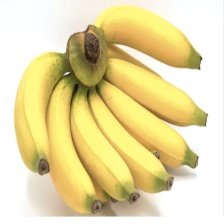banana: (24, 49, 164, 189)
